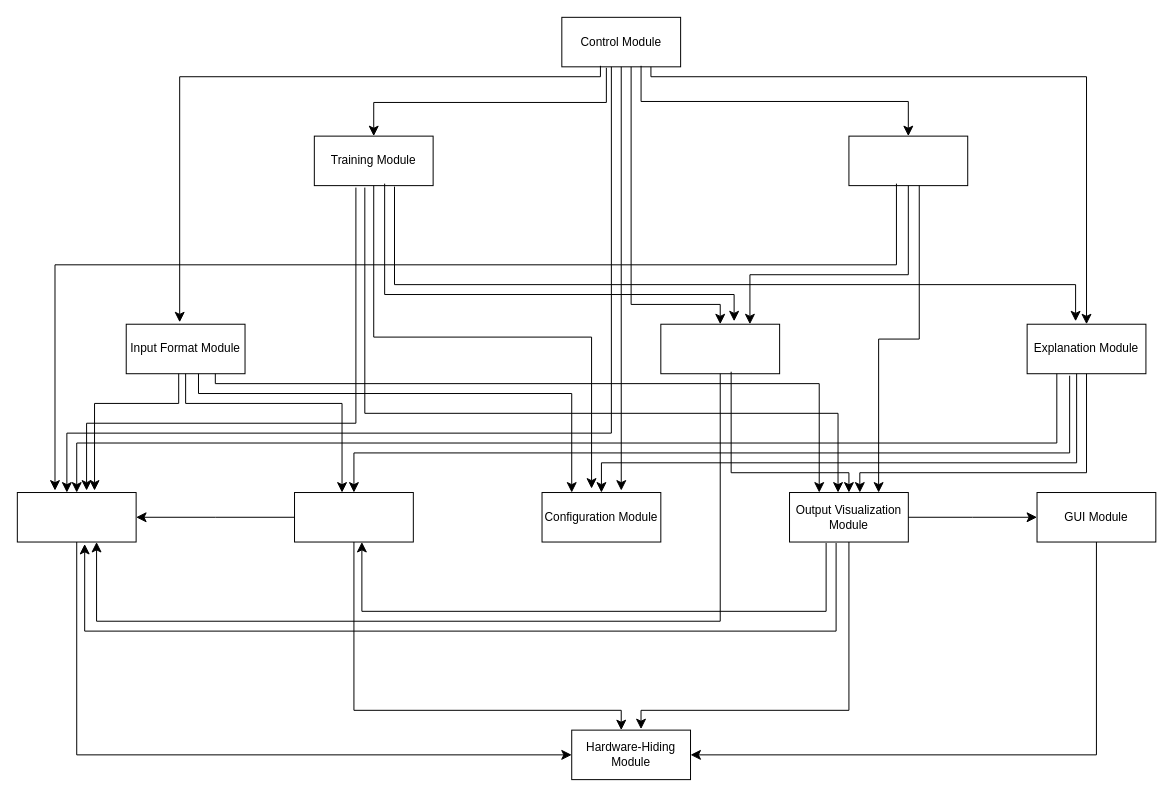
Image size: 1173x797. Some labels were removed from this diagram. Here are the shapes that lost their labels. From the top down, the centre of each, then its label:
point (908, 160): Inference Module
point (720, 348): Model Module
point (76, 517): PyTorch Module
point (353, 517): PyTorch Geomoetric Module
